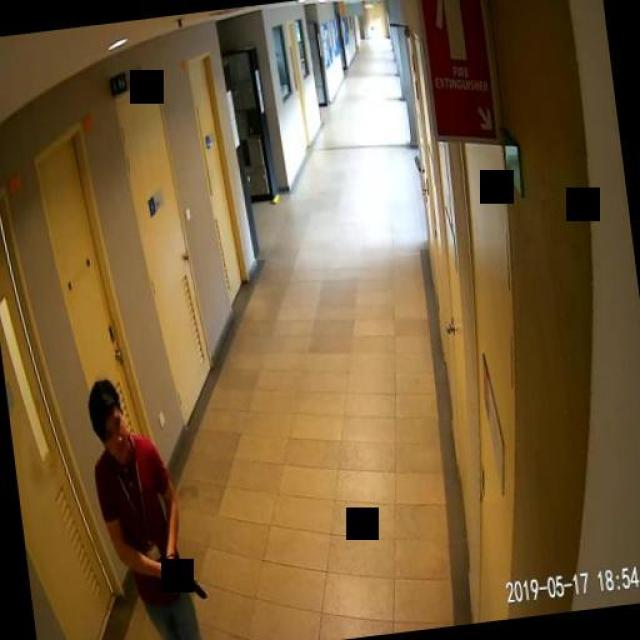gun: (169, 554, 205, 601)
